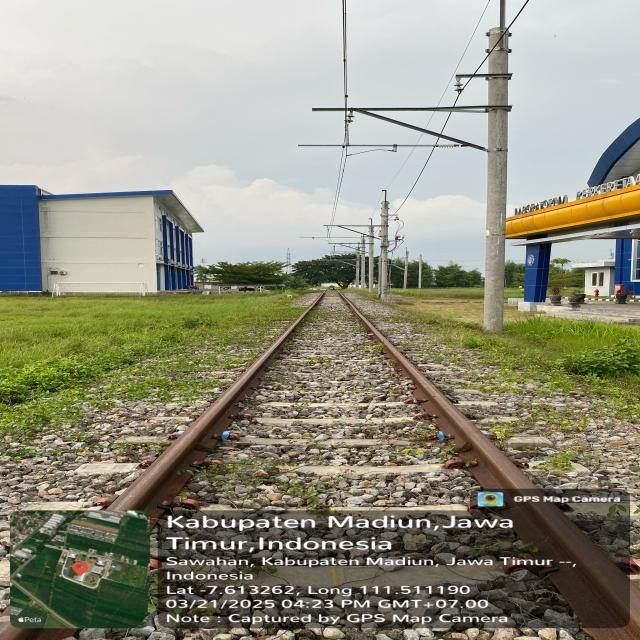rail-detection: (341, 295, 640, 640), (109, 292, 324, 529)
